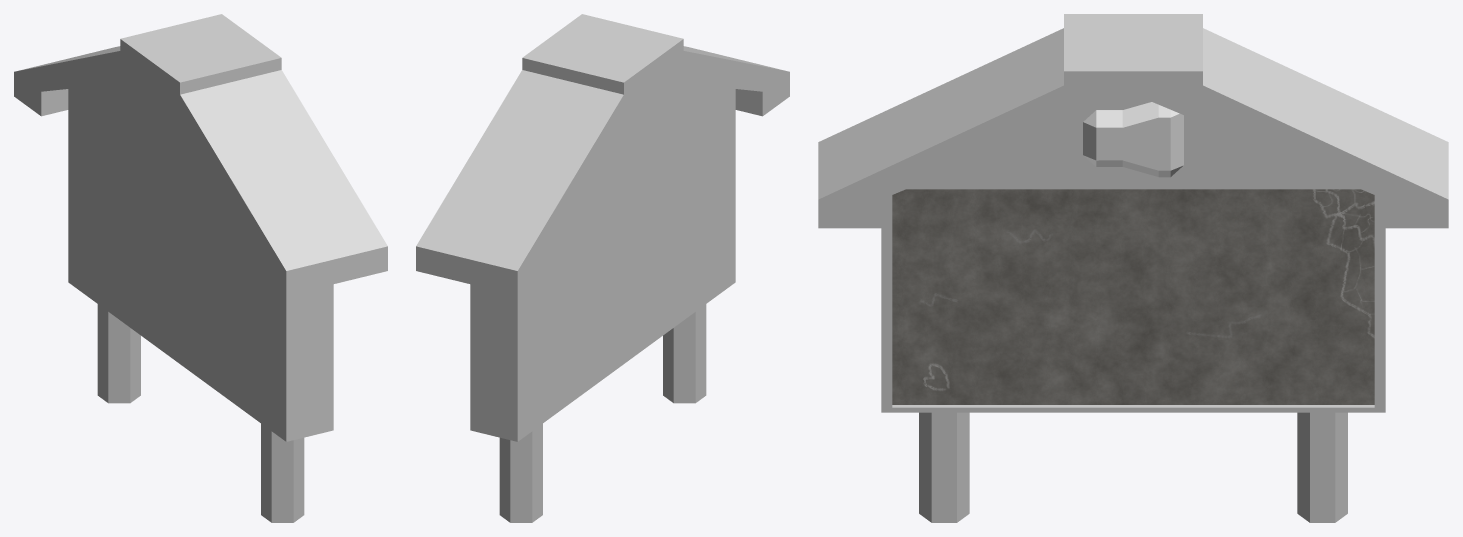
The model's file is mod_structure_kiosk.fbx.
The picture shows the model from 3 angles, left to right: view 1: azimuth 30°, elevation 25°; view 2: azimuth 150°, elevation 25°; view 3: azimuth 270°, elevation 25°; orthographic projection. The views are drawn at different scales.
Parts seen in each view (by area): view 1: mesh_mainBox, mesh_roof, mesh_stilts; view 2: mesh_mainBox, mesh_roof, mesh_stilts; view 3: mesh_glassPane, mesh_roof, mesh_mainBox, mesh_stilts, mesh_plaque.
Boxes of the visible parts, x1,y1,x2,y2 form: mesh_mainBox: (68,80,333,441); mesh_roof: (14,14,387,295); mesh_stilts: (97,304,304,522); mesh_mainBox: (470,80,735,441); mesh_roof: (416,14,789,295); mesh_stilts: (499,304,706,522); mesh_glassPane: (892,189,1374,404); mesh_roof: (818,14,1448,228); mesh_mainBox: (881,96,1385,412); mesh_stilts: (919,412,1347,522); mesh_plaque: (1083,102,1183,177).
Bounding box in the file's own units: 216 × 824 × 1000.
